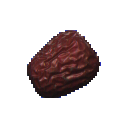gd: (18, 23, 114, 111)
